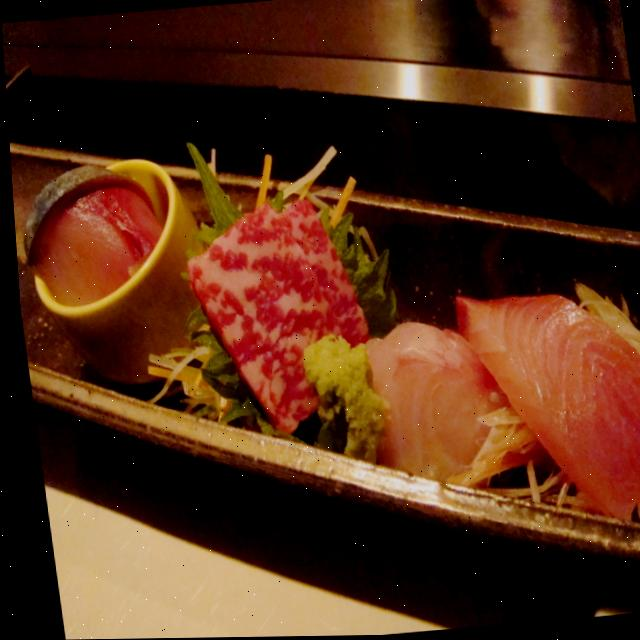刺身生食: (5, 80, 553, 574)
